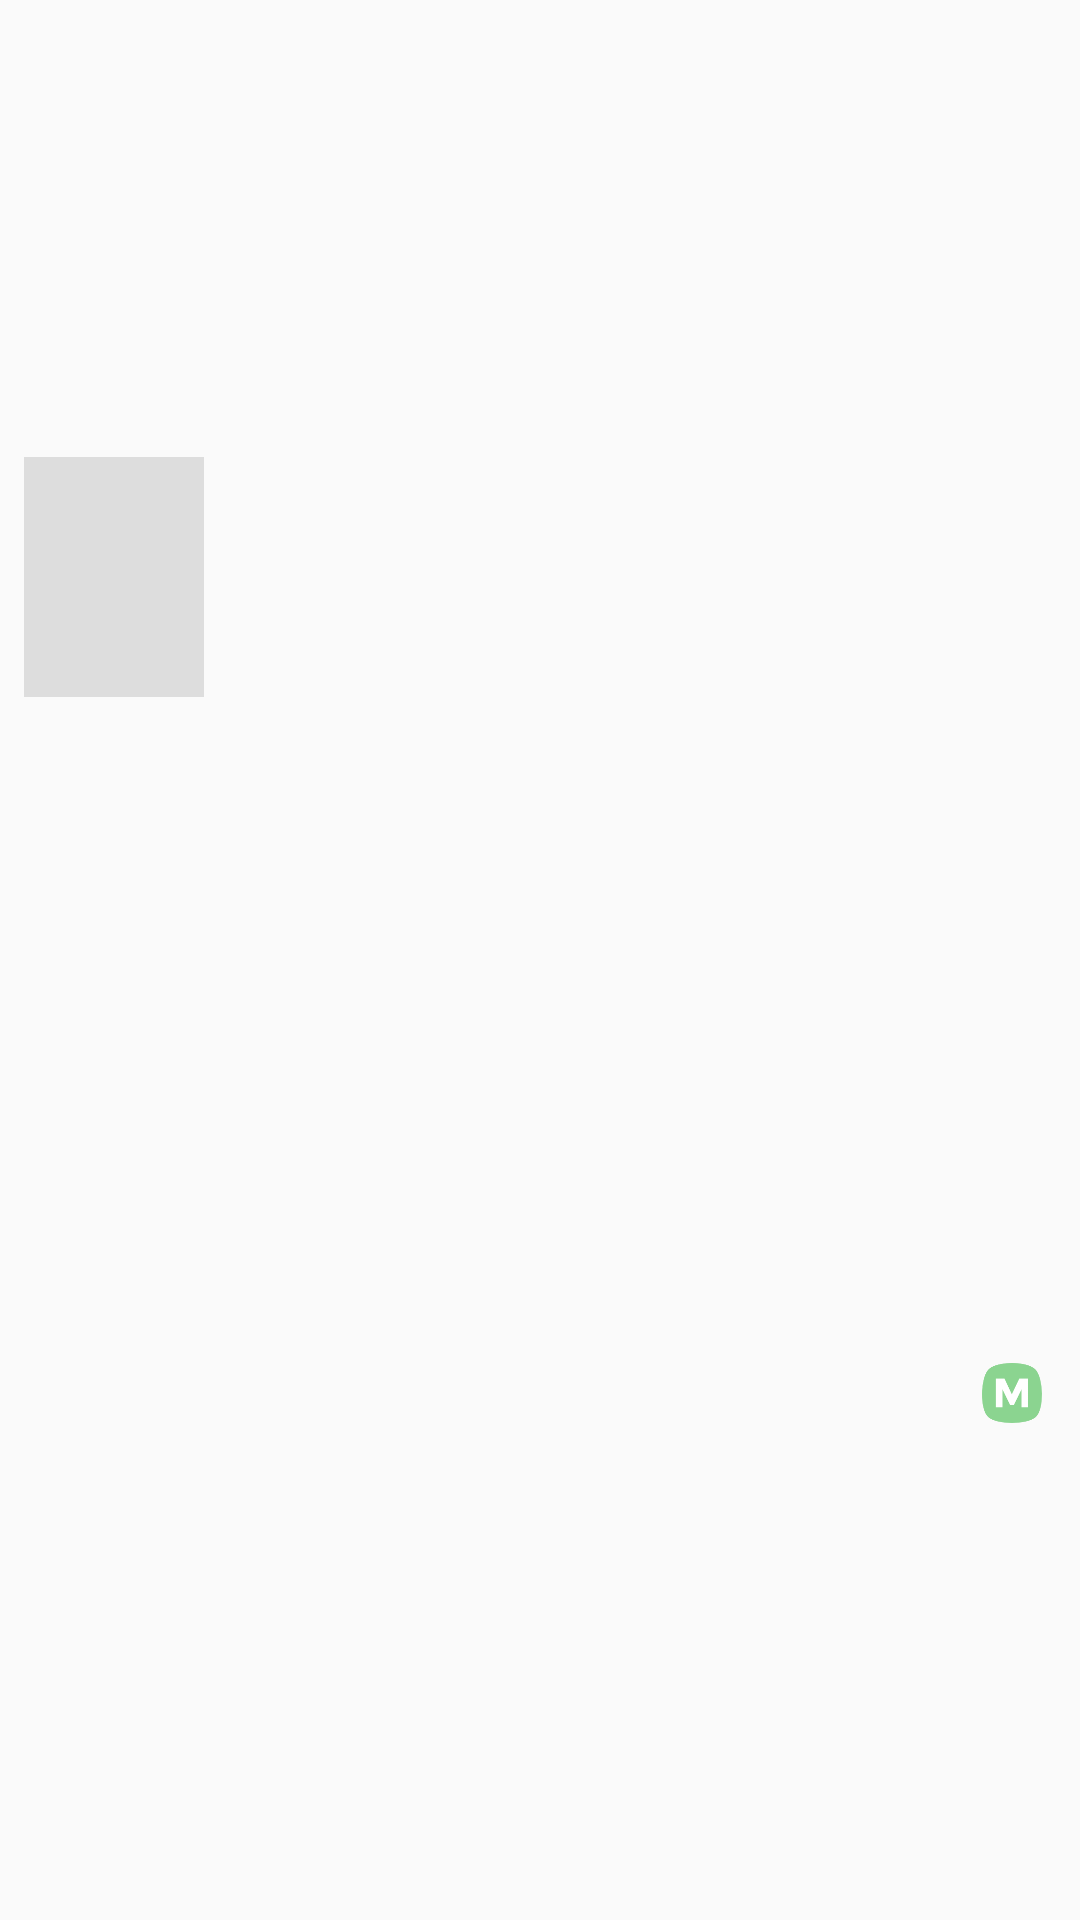

Icon bounding boxes for this 1080px x 1920px phone screenshot, format bbox=[x1, y1, x2, y2]:
manager: bbox=[982, 1363, 1042, 1423]
